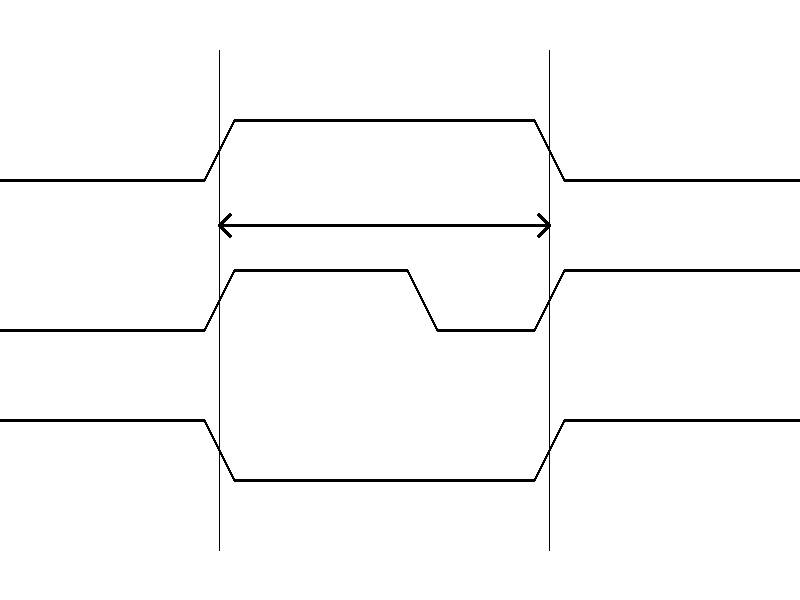double_arrow: (219, 210, 549, 240)
